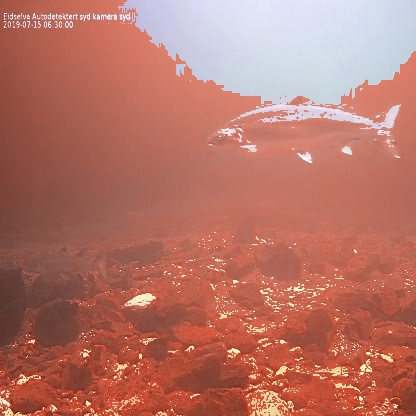salmon: (202, 92, 405, 170), (22, 244, 111, 284)
